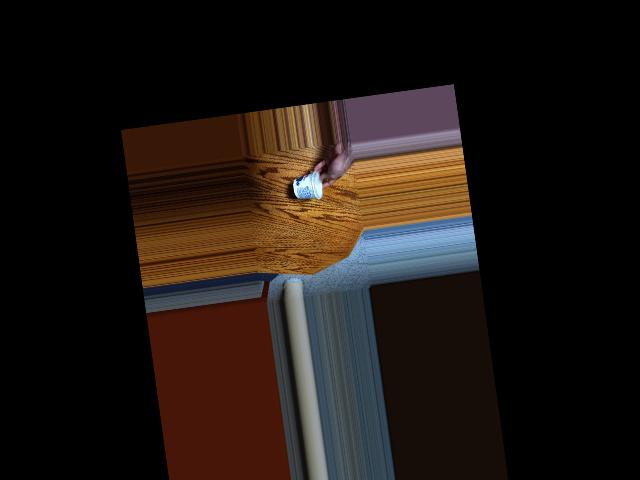cotage: (296, 172, 329, 204)
